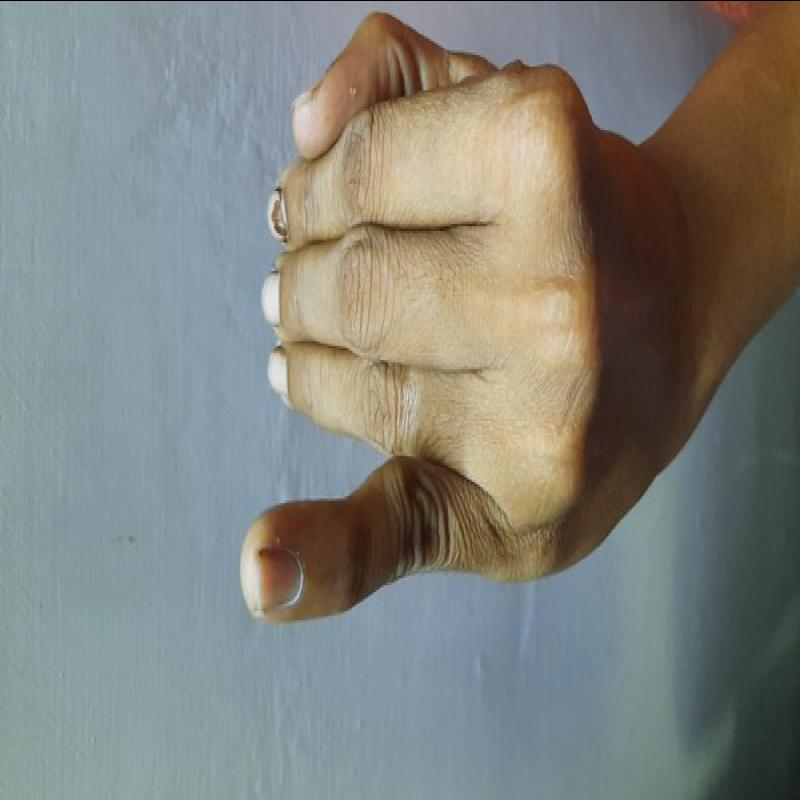Kartharee Mukham: (195, 9, 691, 642)
